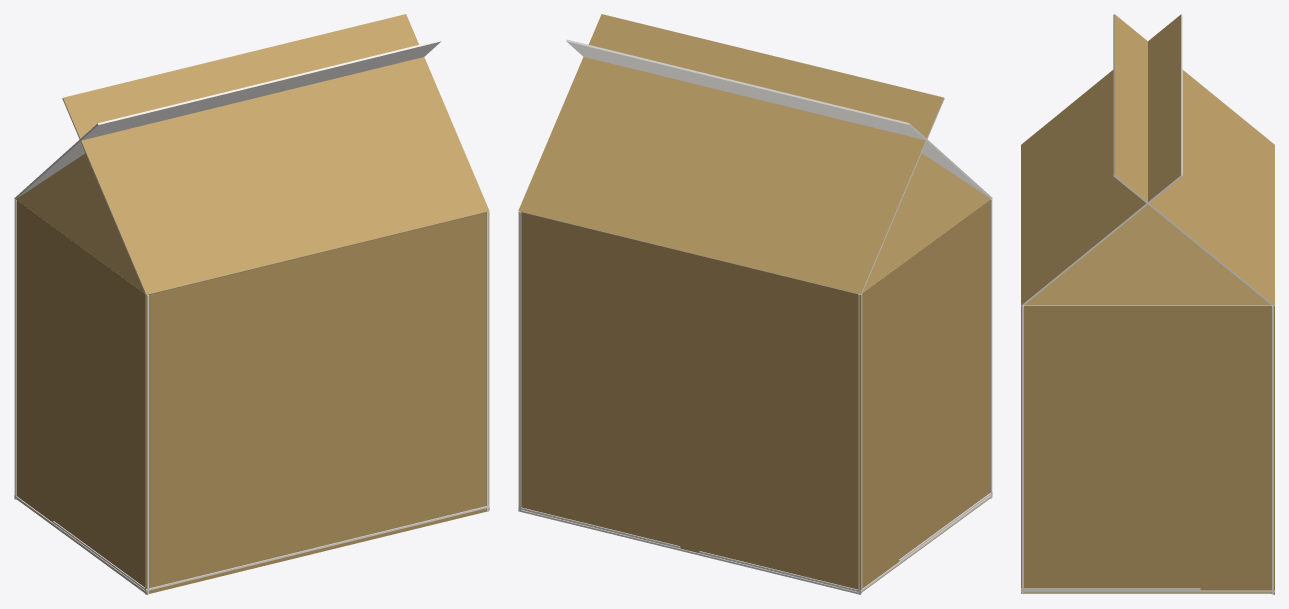
The picture shows the model from 3 angles, left to right: view 1: azimuth 30°, elevation 25°; view 2: azimuth 150°, elevation 25°; view 3: azimuth 270°, elevation 25°; orthographic projection. The views are drawn at different scales.
Parts seen in each view (by area): view 1: Packive_Box_fefco0217; view 2: Packive_Box_fefco0217; view 3: Packive_Box_fefco0217.
Boxes of the visible parts, <box> form: Packive_Box_fefco0217: <box>14,14,489,594</box>; Packive_Box_fefco0217: <box>518,14,992,594</box>; Packive_Box_fefco0217: <box>1021,14,1274,594</box>.
Size of the model in its own units: 0.3 by 0.3652 by 0.2.
26 materials, 13 textured.
